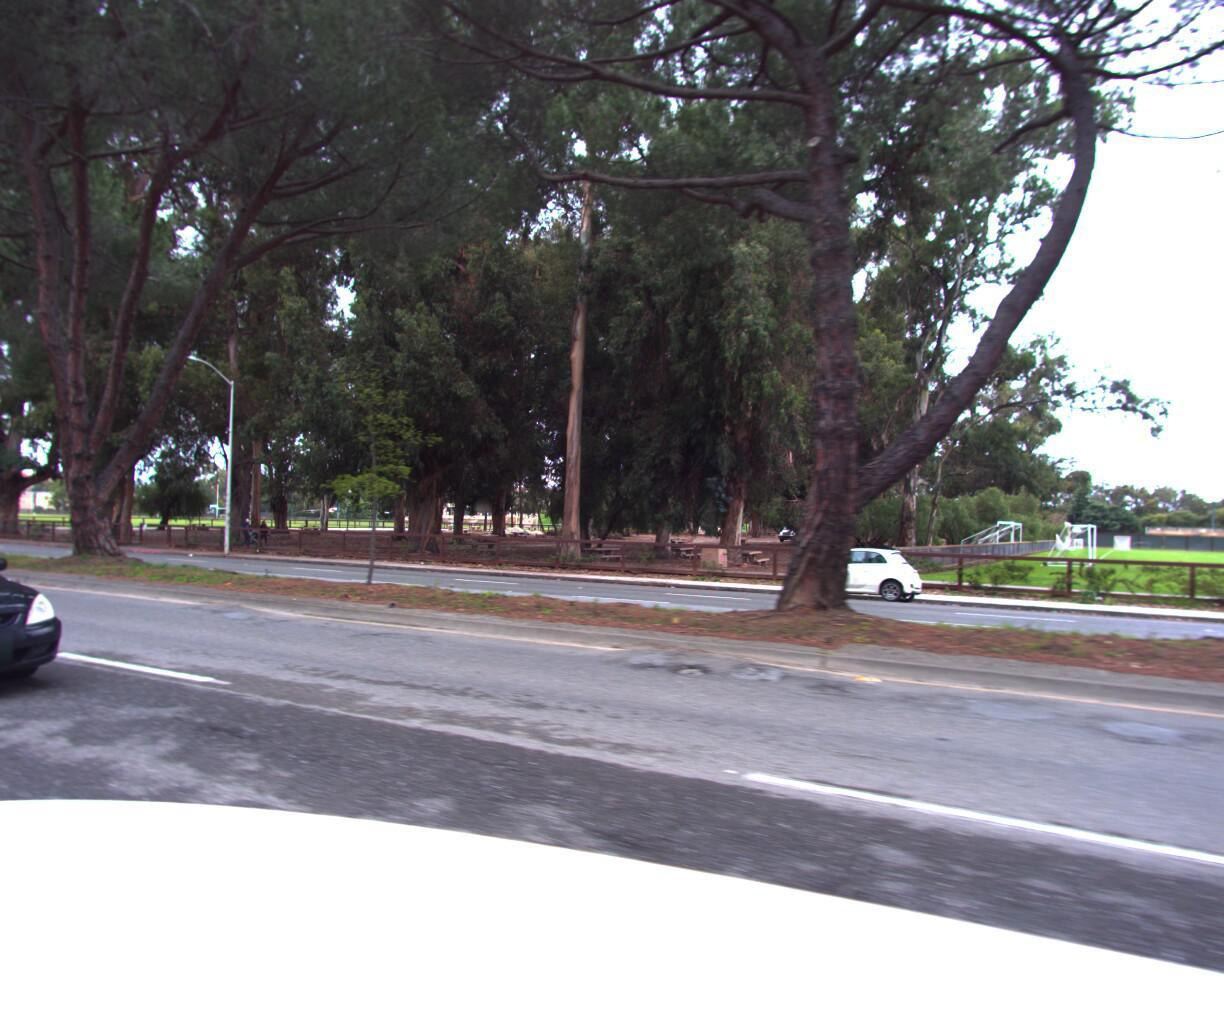car: (0, 489, 87, 742), (781, 543, 926, 611)
